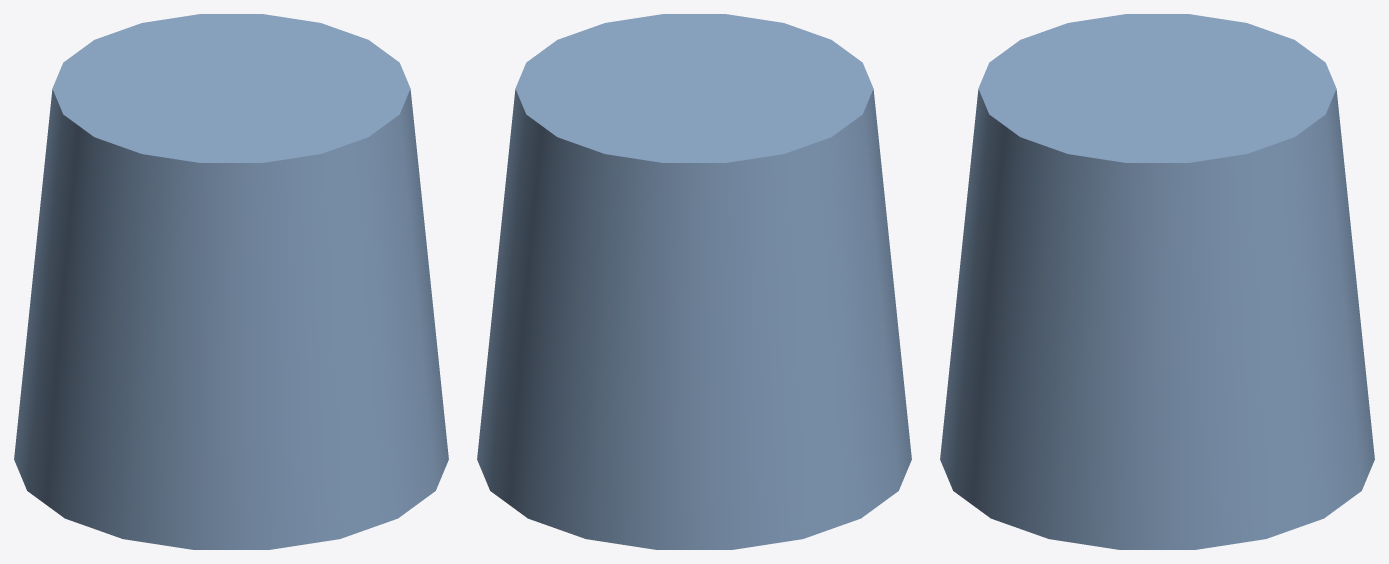
Rendered from body-coat-01.glb.
3 renders of one model, left to right at view 1: azimuth 30°, elevation 25°; view 2: azimuth 150°, elevation 25°; view 3: azimuth 270°, elevation 25°, orthographic.
Size of the model in its own units: 1.67 by 1.6 by 1.7.
